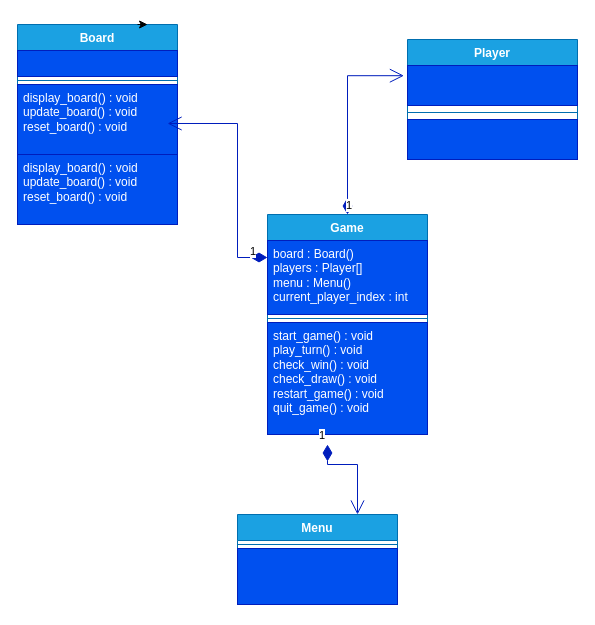
Some shapes in this 595 by 625 pixel diagram are drawn without their labels. Here are the shapes that lost their labels. From the top down, the centre of each, then its label:
At (x=97, y=63): "board : list".
At (x=492, y=85): "name : string symbol : string".
At (x=492, y=139): "choose_name() : void choose_symbol() : void".
At (x=317, y=576): "display_main_menu() display_endgame_menu()".
